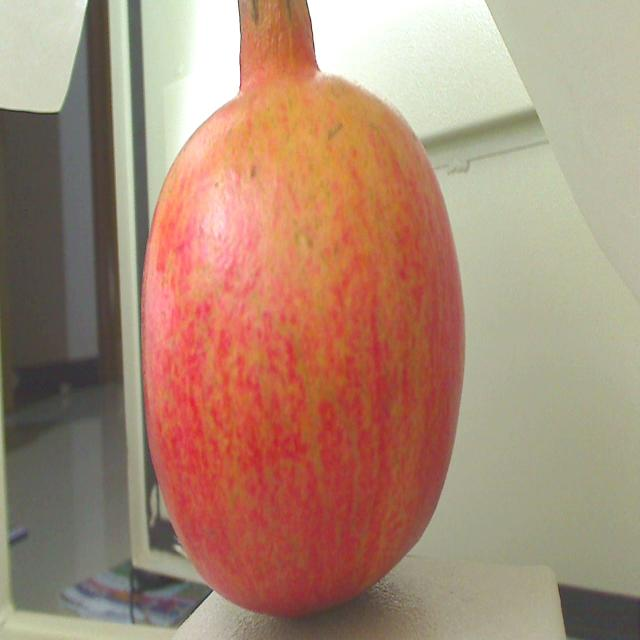pomegranate: (137, 0, 478, 624)
